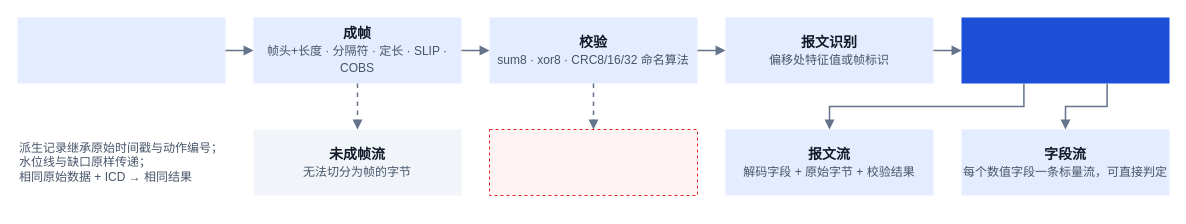
Some shapes in this 1186 by 224 pixel diagram are drawn without their labels. Here are the shapes that lost their labels. From the top down, the centre of each, then its label:
At point 121,50: "原始数据流 串口字节 / 总线报文帧".
At point 1065,50: "字段解码 偏移 · 类型 · 字节序 · 位域 · 比例偏置 · 单位 · 枚举".
At point 593,162: "错误流（保留原因） 校验失败 · 无匹配 · 帧长不足".
